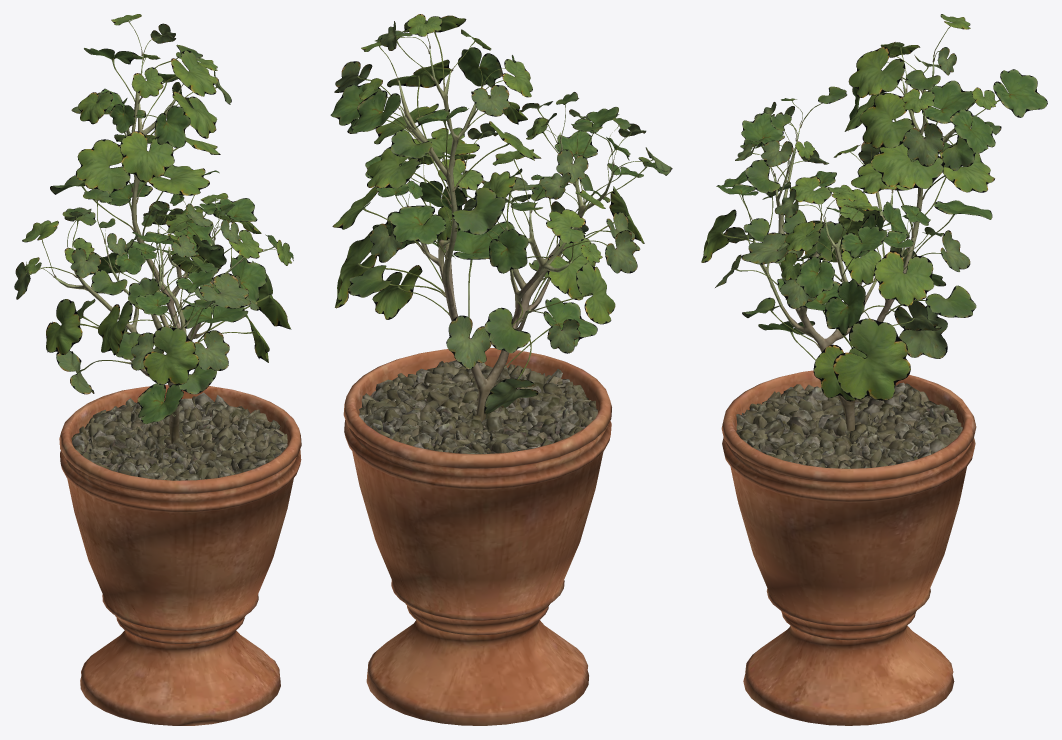
The model's file is potted_plant_01.glb.
The picture shows the model from 3 angles, left to right: view 1: azimuth 30°, elevation 25°; view 2: azimuth 150°, elevation 25°; view 3: azimuth 270°, elevation 25°; orthographic projection. The views are drawn at different scales.
Parts seen in each view (by area): view 1: potted_plant_01_stem, potted_plant_01_leaves; view 2: potted_plant_01_stem, potted_plant_01_leaves; view 3: potted_plant_01_stem, potted_plant_01_leaves.
Part boxes in pixels (box(x1,y1,x2,y2)): potted_plant_01_stem: box(54, 54, 301, 725); potted_plant_01_leaves: box(14, 14, 293, 423); potted_plant_01_stem: box(343, 48, 612, 725); potted_plant_01_leaves: box(330, 14, 672, 414); potted_plant_01_stem: box(721, 55, 976, 725); potted_plant_01_leaves: box(701, 14, 1047, 401).
Bounding box in the file's own units: 0.5874 × 1.34 × 0.6336.
2 materials, 2 textured.
